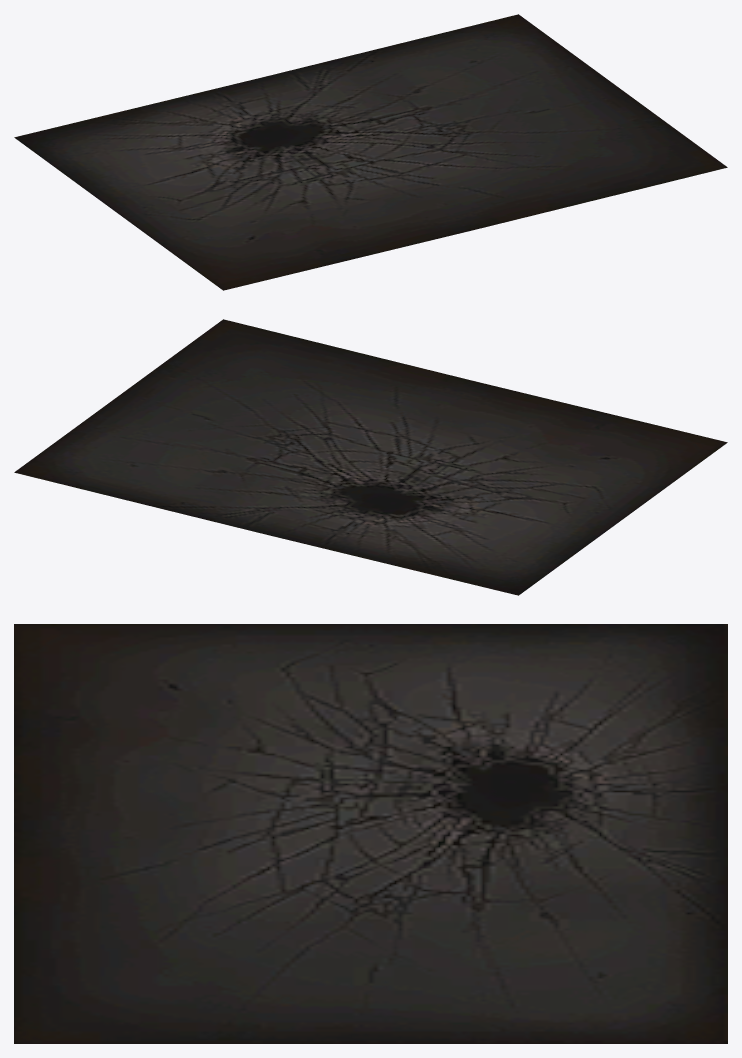
The model's file is monitor_habitat_broken_screen.DAE.
3 views of the same model, one above another, from view 1: azimuth 30°, elevation 25°; view 2: azimuth 150°, elevation 25°; view 3: azimuth 270°, elevation 25° (orthographic). The views are drawn at different scales.
Visible parts, largest first — view 1: monitor_habitat_broken_screen; view 2: monitor_habitat_broken_screen; view 3: monitor_habitat_broken_screen.
Part boxes in pixels (x1=…): monitor_habitat_broken_screen: x1=14, y1=14, x2=727, y2=290; monitor_habitat_broken_screen: x1=14, y1=319, x2=727, y2=595; monitor_habitat_broken_screen: x1=14, y1=624, x2=727, y2=1043.
Bounding box in the file's own units: 38.24 × 27.48 × 0.0412.
